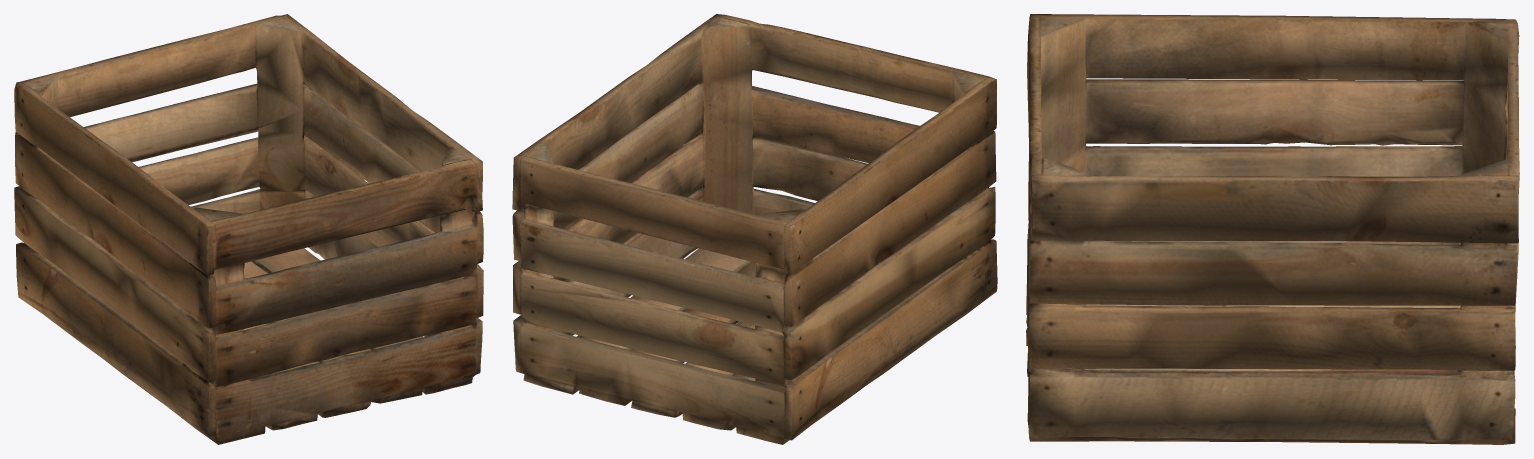
The model's file is prop_crate.glb.
3 views of the same model, side by side, from view 1: azimuth 30°, elevation 25°; view 2: azimuth 150°, elevation 25°; view 3: azimuth 270°, elevation 25° (orthographic). The views are drawn at different scales.
Parts seen in each view (by area): view 1: vijncb3_LOD0_TIER3_000; view 2: vijncb3_LOD0_TIER3_000; view 3: vijncb3_LOD0_TIER3_000.
Boxes of the visible parts, x1=… form: vijncb3_LOD0_TIER3_000: x1=14, y1=14, x2=483, y2=444; vijncb3_LOD0_TIER3_000: x1=512, y1=14, x2=997, y2=444; vijncb3_LOD0_TIER3_000: x1=1026, y1=14, x2=1519, y2=444.
Size of the model in its own units: 0.4144 by 0.3154 by 0.5151.
Materials: 1 (1 with a texture image).
